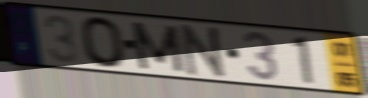1: (289, 34, 316, 86)
3: (240, 29, 280, 84), (43, 14, 79, 64)
M: (128, 20, 188, 75)
N: (179, 22, 230, 80)
O: (78, 14, 128, 70)
